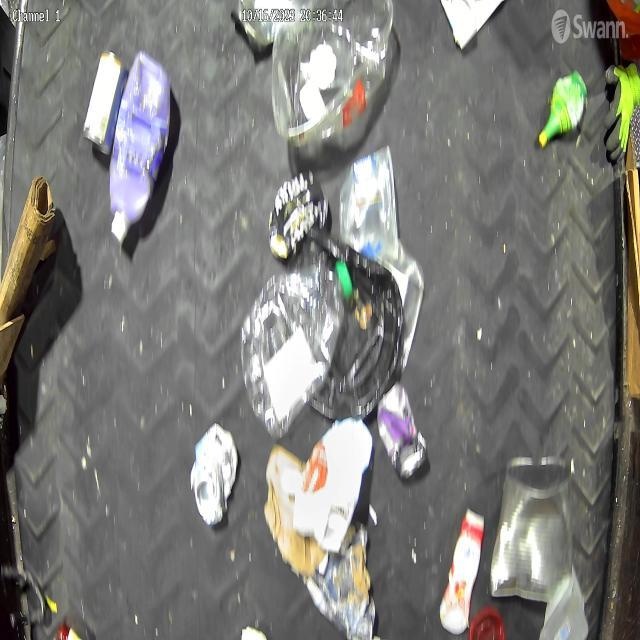can: (489, 446, 577, 612), (376, 381, 431, 484), (190, 415, 237, 531), (85, 49, 129, 161)
plastic_bottle: (238, 246, 356, 442)
